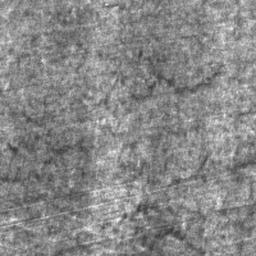Crazing: (0, 4, 256, 218), (53, 141, 256, 256), (102, 0, 163, 25), (180, 34, 205, 53), (9, 10, 30, 20)
